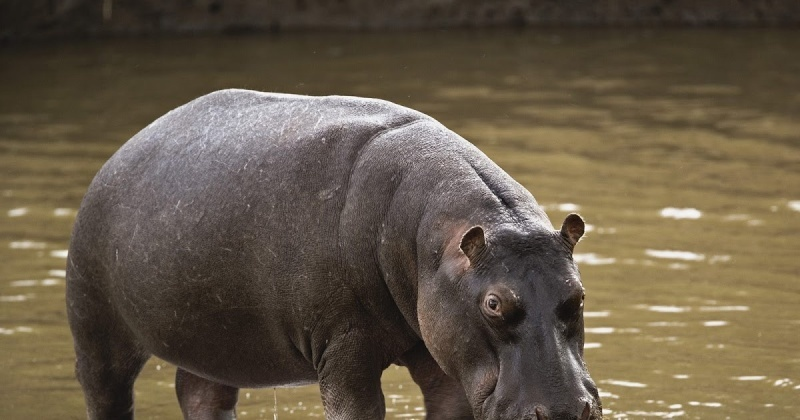hipopotamo: (33, 73, 616, 420)
